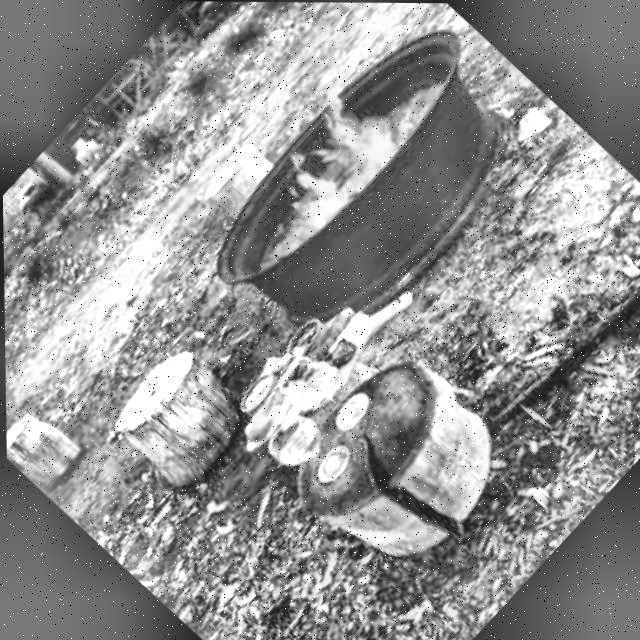Fire: (227, 71, 412, 259)
